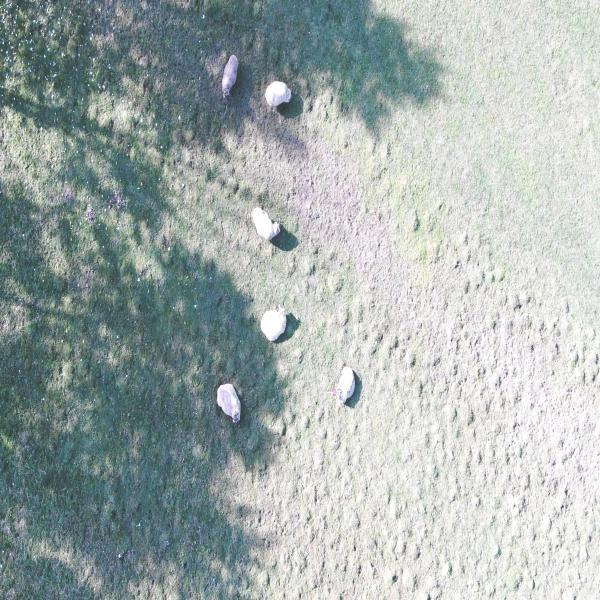sheep: (327, 347, 358, 414), (215, 52, 244, 121), (257, 74, 296, 122), (245, 195, 282, 244), (212, 376, 246, 425), (261, 295, 291, 346)
